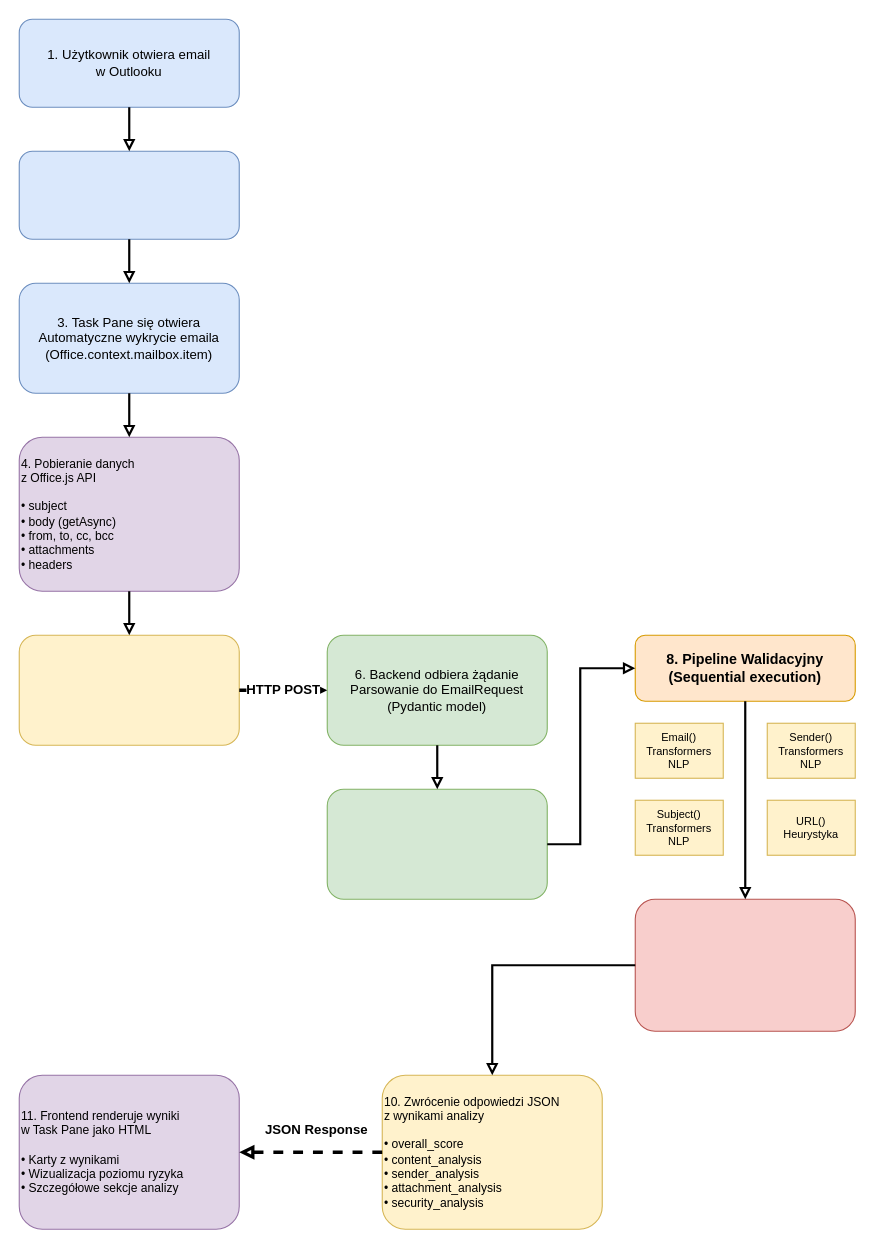
Image size: 875x1249. Some labels were removed from this diagram. The shapes that lost their labels are listed below. From the top down, each one's centre as x and y in pixels, then its label:
point (128, 194): 2. Kliknięcie przycisku "Pokaż panel" w ribbonie
point (128, 689): 5. Wysłanie żądania POST do /analyze z danymi JSON
point (436, 843): 7. Utworzenie Context z danymi emaila Przygotowanie do walidacji
point (744, 964): 9. ResponseBuilder agreguje wyniki oblicza overall_score (0-100)
